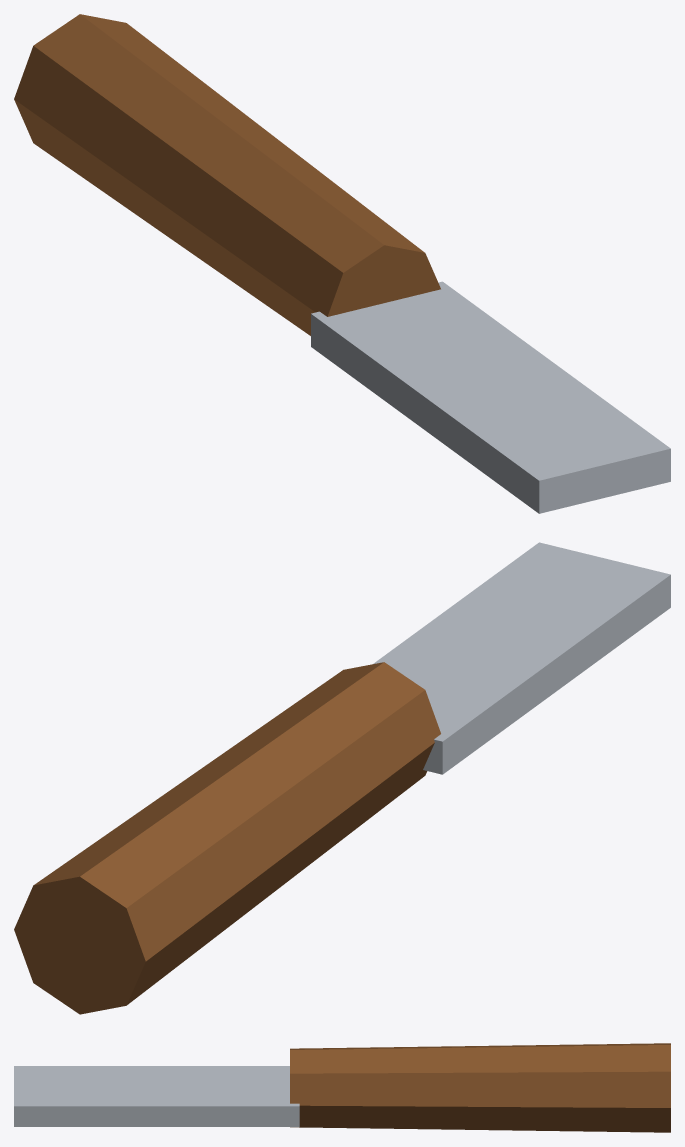
The model's file is ice_chisel.glb.
The picture shows the model from 3 angles, top to bottom: view 1: azimuth 30°, elevation 25°; view 2: azimuth 150°, elevation 25°; view 3: azimuth 270°, elevation 25°; orthographic projection. The views are drawn at different scales.
Visible parts, largest first — view 1: handle_chisel_wood, blade_chisel_steel; view 2: handle_chisel_wood, blade_chisel_steel; view 3: handle_chisel_wood, blade_chisel_steel.
Boxes of the visible parts, x1,y1,x2,y2 form: handle_chisel_wood: [14, 14, 440, 335]; blade_chisel_steel: [311, 281, 670, 513]; handle_chisel_wood: [14, 662, 440, 1014]; blade_chisel_steel: [373, 542, 670, 774]; handle_chisel_wood: [290, 1043, 670, 1132]; blade_chisel_steel: [14, 1066, 299, 1126].
Bounding box in the file's own units: 0.05 × 0.05 × 0.345.
